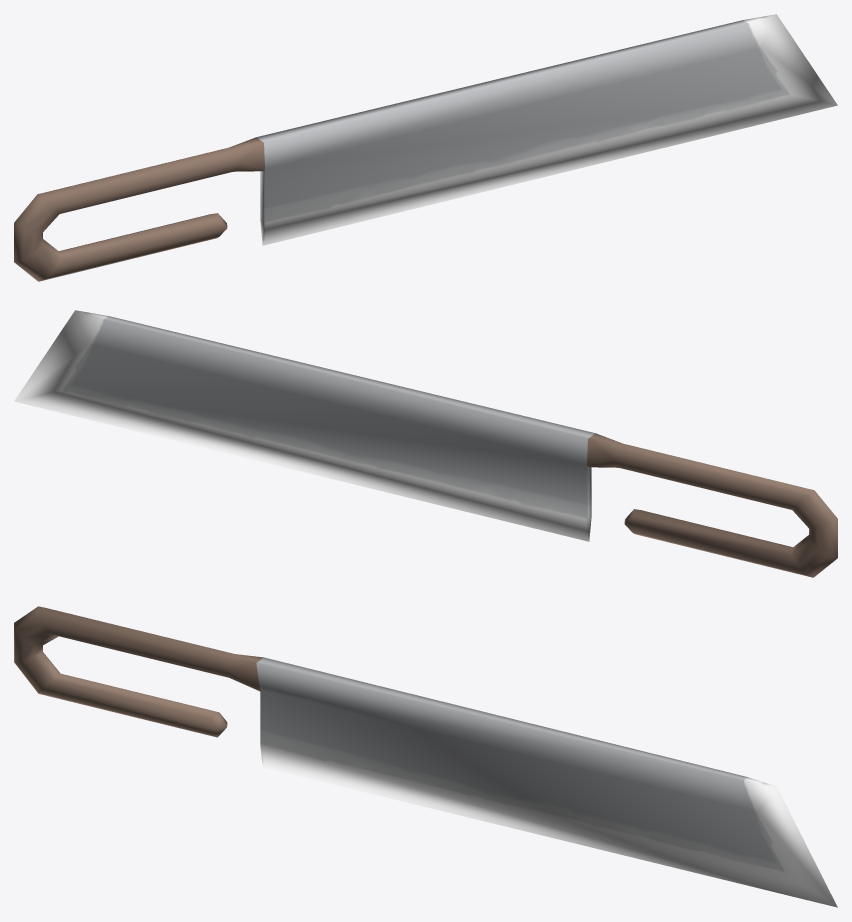
Rendered from Sword.fbx.
The picture shows the model from 3 angles, top to bottom: view 1: azimuth 30°, elevation 25°; view 2: azimuth 150°, elevation 25°; view 3: azimuth 330°, elevation 25°; orthographic projection.
Parts seen in each view (by area): view 1: Cube; view 2: Cube; view 3: Cube.
Part boxes in pixels (x1,y1,x2,y2): Cube: (14, 14, 837, 281); Cube: (14, 310, 837, 577); Cube: (14, 606, 837, 907).
Size of the model in its own units: 68.97 by 8.51 by 1.55.
